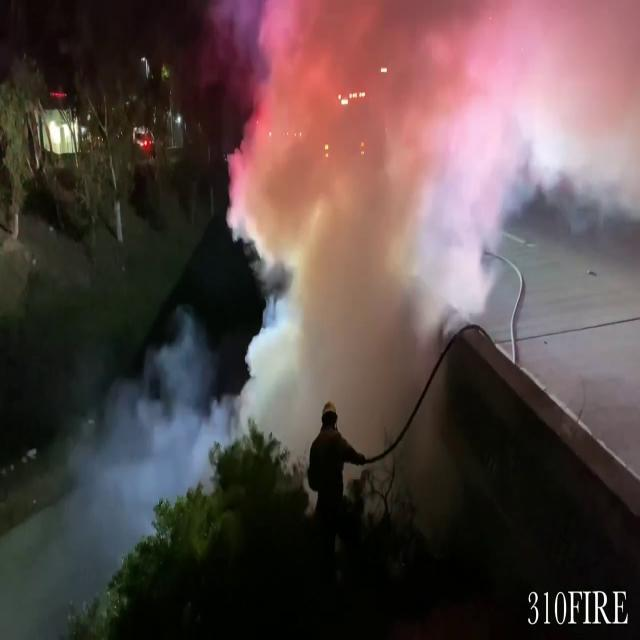Smoke: (210, 0, 530, 495), (70, 303, 224, 582)
